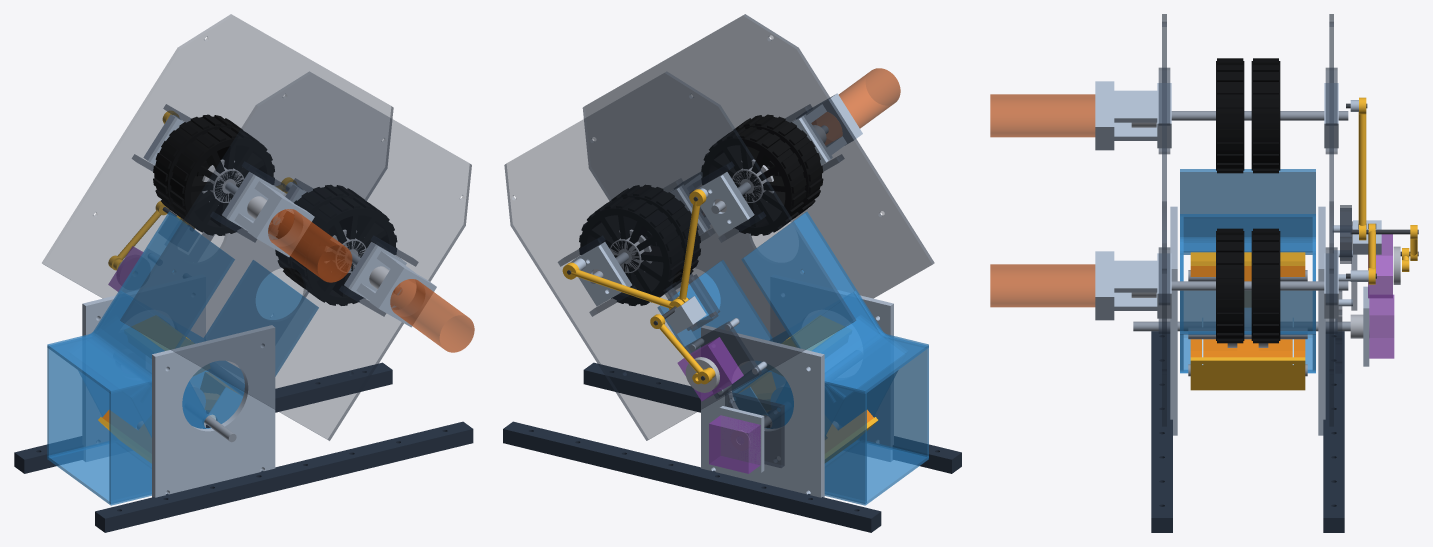
The model's file is paddle_launcher_feasible_pollen.glb.
3 renders of one model, left to right at view 1: azimuth 30°, elevation 25°; view 2: azimuth 150°, elevation 25°; view 3: azimuth 270°, elevation 25°, orthographic. The views are drawn at different scales.
Visible parts, largest first — view 1: shooter_side_plate_-1, shooter_side_plate_+1, paddle_support_cheek_-1, base_rail_-72, shooter_throat_+55, gecko_flywheel_upper_1, gecko_flywheel_lower_1, shooter_throat_-55, guide_wall_1_+1, guide_wall_1_-1, paddle_support_cheek_+1, base_rail_+72 (+23 smaller); view 2: shooter_side_plate_+1, shooter_side_plate_-1, paddle_support_cheek_+1, base_rail_+72, shooter_throat_+55, gecko_flywheel_upper_2, gecko_flywheel_lower_2, guide_wall_1_-1, paddle_support_cheek_-1, guide_wall_1_+1, base_rail_-72, guide_floor_1 (+29 smaller); view 3: shooter_throat_+55, motor_upper_5203-2402-0003, motor_lower_5203-2402-0003, base_rail_-72, base_rail_+72, paddle_flex_tip_1, guide_roof_3, shooter_throat_-55, gecko_flywheel_upper_2, gecko_flywheel_lower_2, gecko_flywheel_upper_1, gecko_flywheel_lower_1 (+34 smaller).
Boxes of the visible parts, box(x1,y1,x2,y2) form: shooter_side_plate_-1: box(120, 71, 471, 440); shooter_side_plate_+1: box(42, 14, 393, 367); paddle_support_cheek_-1: box(152, 325, 275, 497); base_rail_-72: box(95, 421, 473, 532); shooter_throat_+55: box(119, 211, 234, 337); gecko_flywheel_upper_1: box(169, 127, 274, 235); gecko_flywheel_lower_1: box(292, 197, 397, 305); shooter_throat_-55: box(204, 260, 318, 376); guide_wall_1_+1: box(47, 336, 113, 458); guide_wall_1_-1: box(109, 381, 151, 503); paddle_support_cheek_+1: box(82, 275, 205, 461); base_rail_+72: box(14, 362, 392, 473); shooter_side_plate_+1: box(504, 71, 855, 440); shooter_side_plate_-1: box(582, 14, 934, 332); paddle_support_cheek_+1: box(701, 325, 824, 497); base_rail_+72: box(503, 421, 881, 532); shooter_throat_+55: box(741, 211, 856, 337); gecko_flywheel_upper_2: box(701, 127, 806, 235); gecko_flywheel_lower_2: box(579, 197, 684, 305); guide_wall_1_-1: box(862, 336, 928, 458); paddle_support_cheek_-1: box(770, 275, 893, 461); guide_wall_1_+1: box(824, 382, 866, 503); base_rail_-72: box(583, 362, 961, 473); guide_floor_1: box(824, 441, 928, 505); shooter_throat_+55: box(1180, 169, 1315, 216); motor_upper_5203-2402-0003: box(990, 94, 1095, 137); motor_lower_5203-2402-0003: box(990, 264, 1095, 307); base_rail_-72: box(1151, 331, 1172, 532); base_rail_+72: box(1323, 331, 1344, 532); paddle_flex_tip_1: box(1190, 357, 1305, 390); guide_roof_3: box(1180, 214, 1315, 254); shooter_throat_-55: box(1180, 290, 1315, 333); gecko_flywheel_upper_2: box(1251, 58, 1280, 173); gecko_flywheel_lower_2: box(1251, 228, 1280, 343); gecko_flywheel_upper_1: box(1216, 58, 1244, 173); gecko_flywheel_lower_1: box(1216, 228, 1244, 343).
Size of the model in its own units: 384 by 400 by 359.
